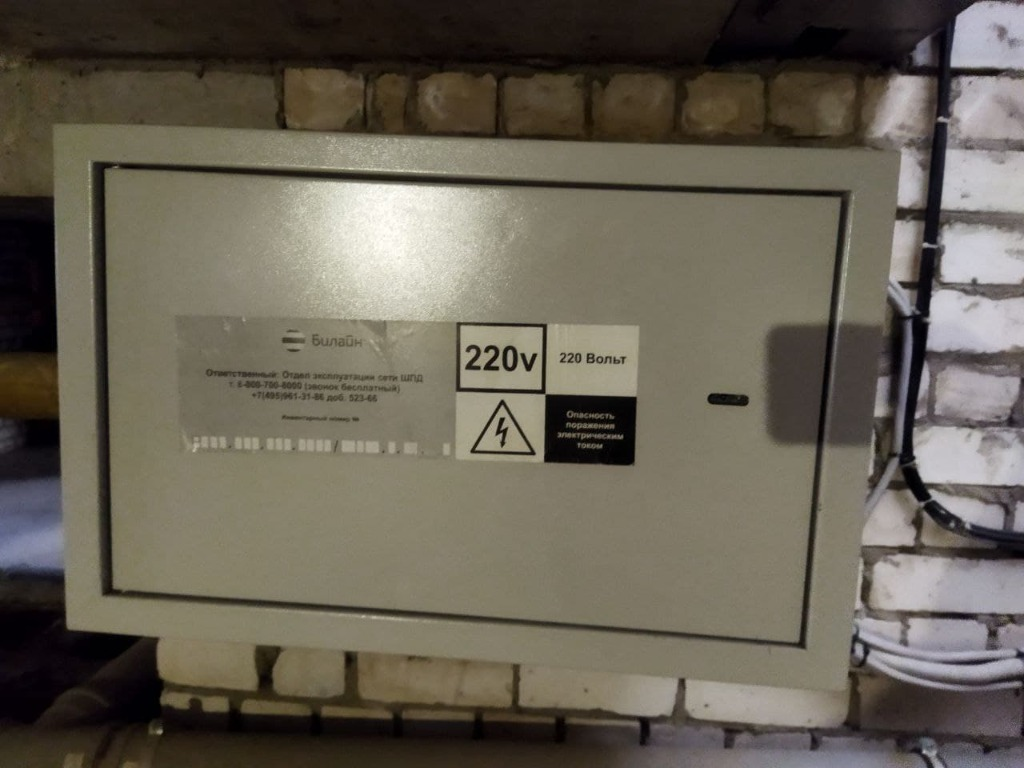shta-7m: (37, 108, 910, 709)
